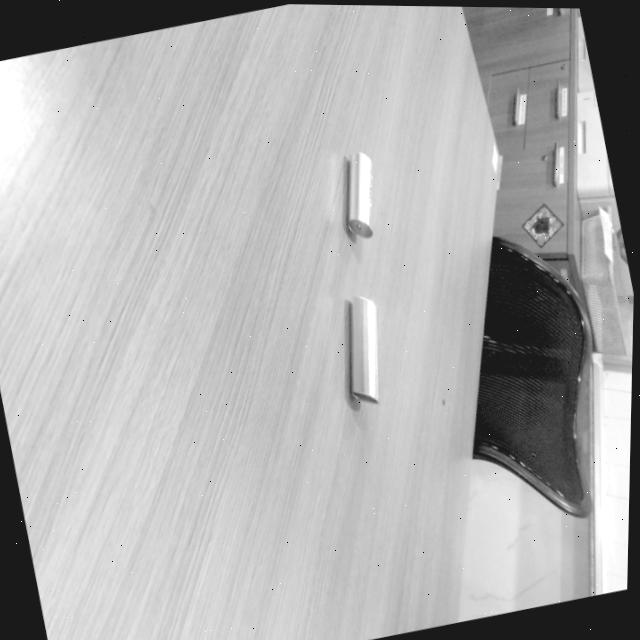Co_Lon: (347, 296, 377, 404)
Co_Nho: (345, 152, 372, 238)
